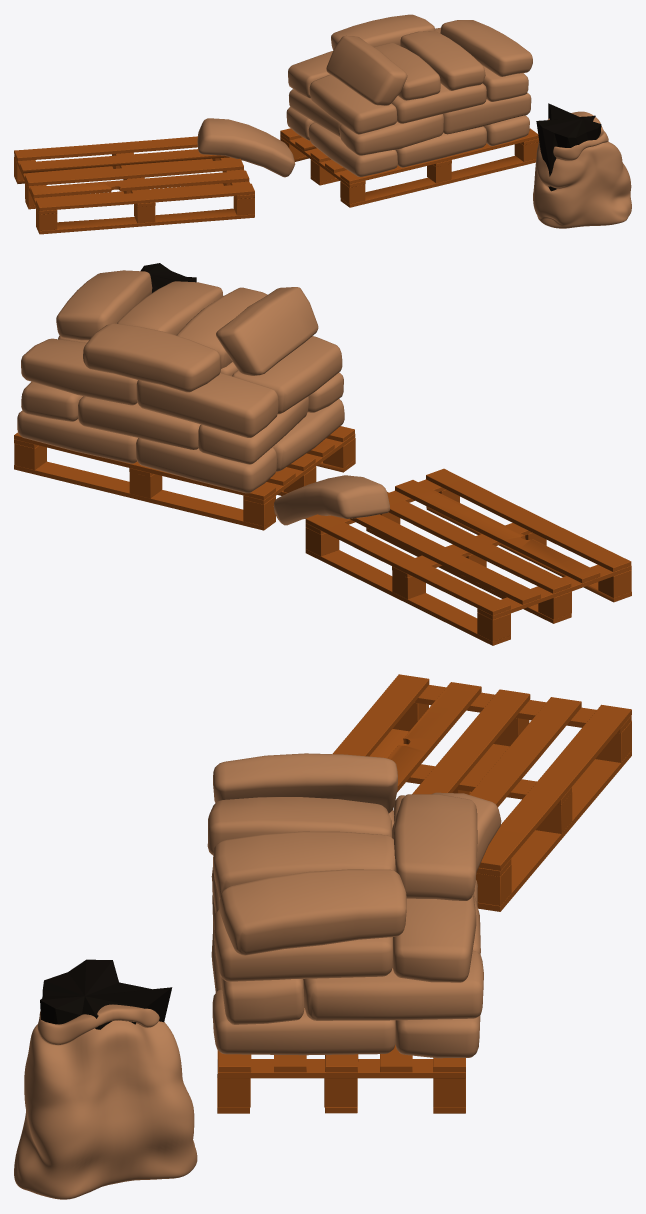
The model's file is LVfertilizer.fbx.
3 renders of one model, top to bottom at view 1: azimuth 30°, elevation 25°; view 2: azimuth 150°, elevation 25°; view 3: azimuth 270°, elevation 25°, orthographic. The views are drawn at different scales.
Parts seen in each view (by area): view 1: sack4, pallet1, Group46140, pallet2, sack2, sack3, sack1, 원기둥; view 2: sack4, pallet1, pallet2, sack2, sack3, sack1, 원기둥; view 3: sack4, pallet1, Group46140, sack3, sack2, pallet2, 원기둥, sack1.
Boxes of the visible parts, <box> form: sack4: <box>288,14,532,134</box>; pallet1: <box>14,136,254,234</box>; Group46140: <box>533,111,631,228</box>; pallet2: <box>280,128,538,207</box>; sack2: <box>286,107,529,176</box>; sack3: <box>289,89,531,155</box>; sack1: <box>197,118,295,177</box>; 원기둥: <box>536,103,601,191</box>; sack4: <box>21,270,342,437</box>; pallet1: <box>305,468,631,645</box>; pallet2: <box>14,426,355,530</box>; sack2: <box>17,399,344,493</box>; sack3: <box>21,372,343,464</box>; sack1: <box>273,475,389,525</box>; 원기둥: <box>140,263,196,292</box>; sack4: <box>207,753,477,982</box>; pallet1: <box>332,674,631,911</box>; Group46140: <box>14,1004,197,1199</box>; sack3: <box>212,885,483,1024</box>; sack2: <box>211,879,480,1058</box>; pallet2: <box>217,1044,465,1113</box>; 원기둥: <box>40,959,172,1029</box>; sack1: <box>432,792,501,871</box>.
Bounding box in the file's own units: 314 × 95.8 × 189.
